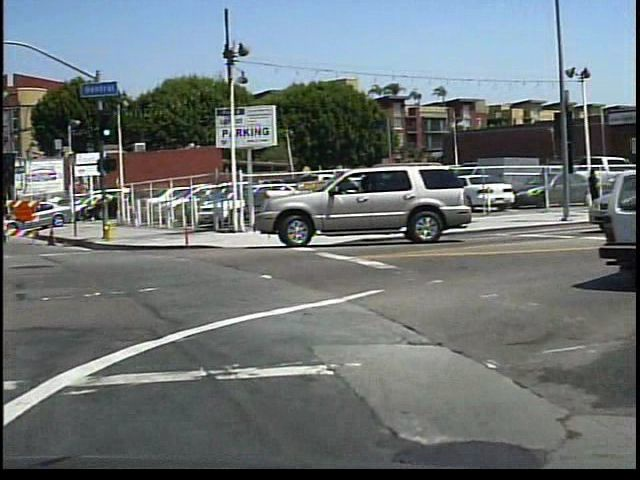person: (582, 163, 605, 217)
